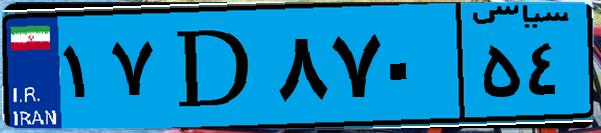0: (385, 28, 445, 110)
1: (57, 26, 110, 100)
4: (525, 38, 570, 115)
5: (475, 38, 525, 113)
7: (330, 28, 385, 110), (110, 28, 158, 98)
8: (270, 28, 330, 110)
D: (158, 12, 270, 120)
